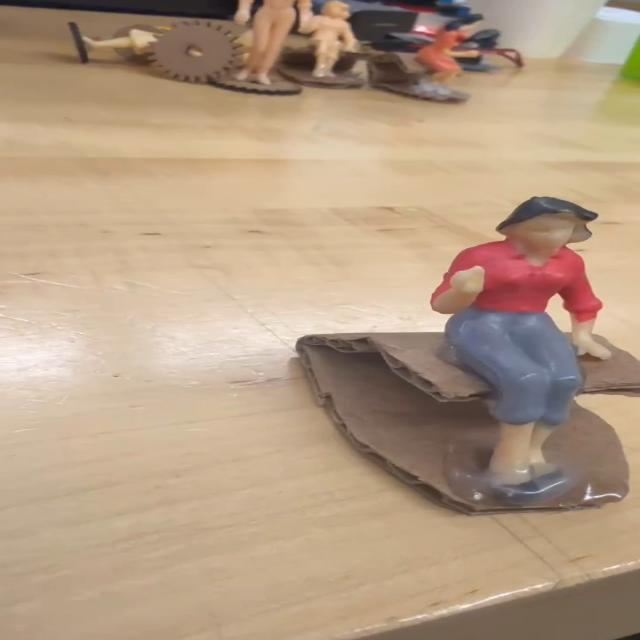Authorized: (428, 190, 609, 500)
